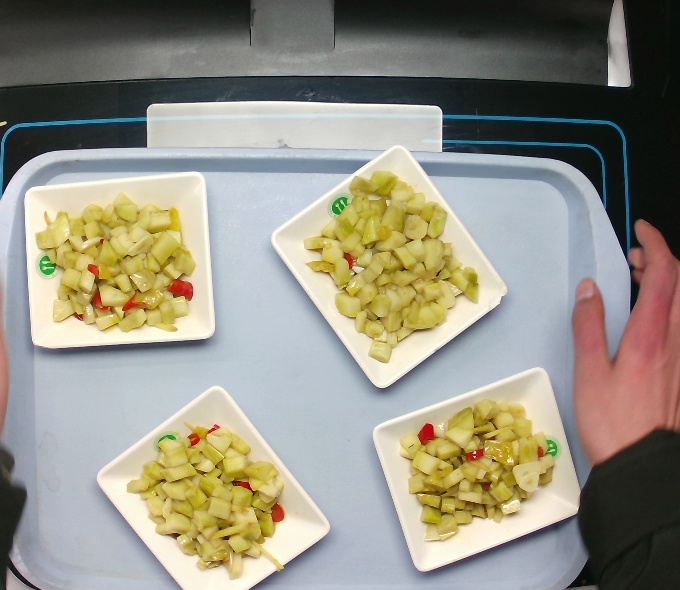wcq-YanHuaCaiGeng: (305, 171, 480, 364), (384, 396, 563, 543), (126, 421, 287, 575), (37, 202, 196, 333)
